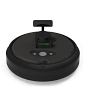turtlebot: (3, 15, 89, 86)
